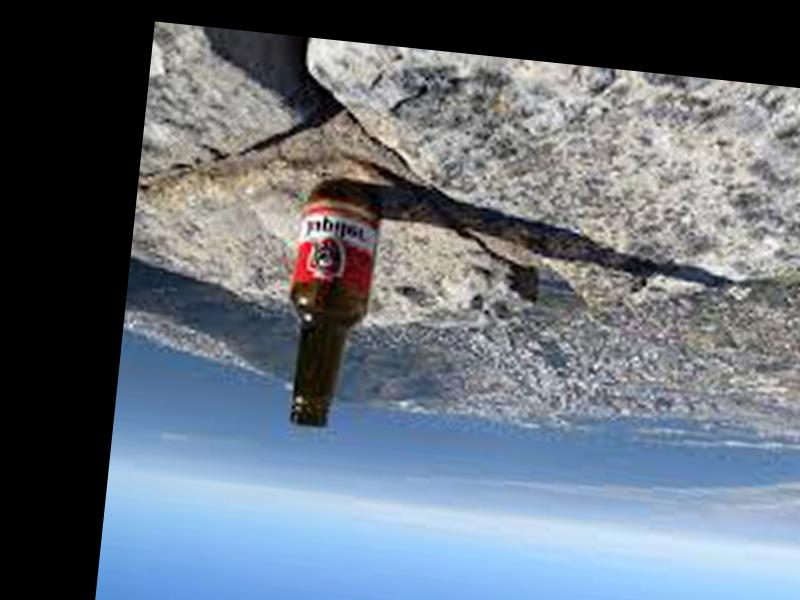Beer: (275, 185, 382, 433)
